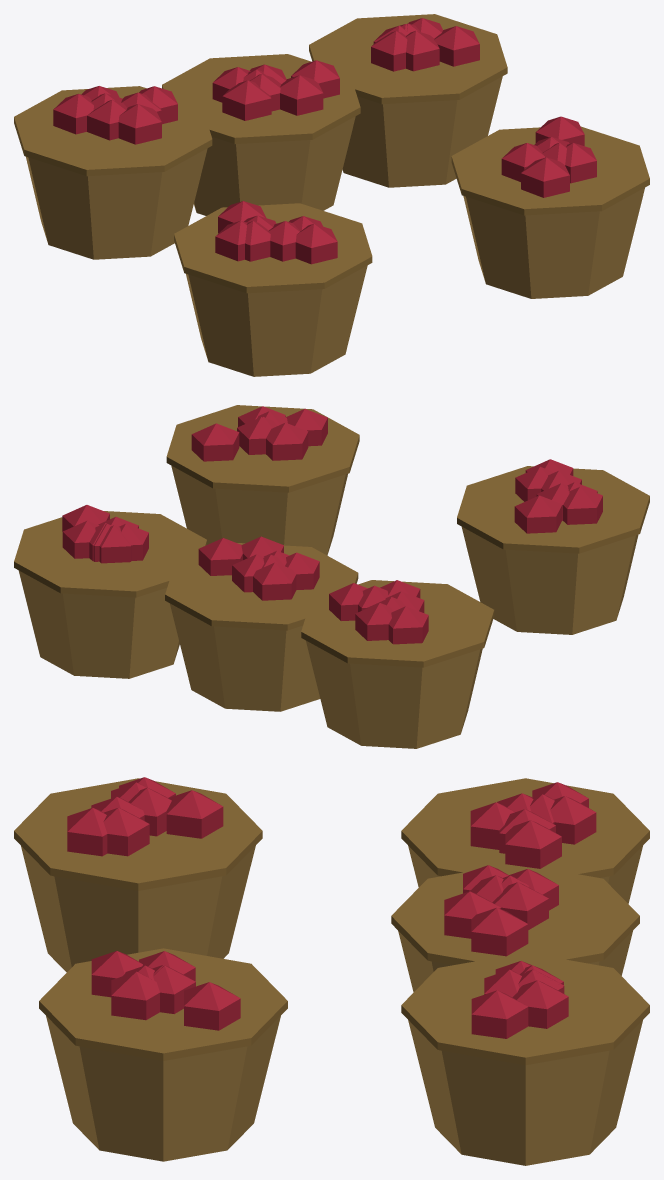
The model's file is pile_berries_2.glb.
3 renders of one model, top to bottom at view 1: azimuth 30°, elevation 25°; view 2: azimuth 150°, elevation 25°; view 3: azimuth 270°, elevation 25°, orthographic. The views are drawn at different scales.
Parts seen in each view (by area): view 1: pile_berries_2; view 2: pile_berries_2; view 3: pile_berries_2.
Part boxes in pixels (left/top/right/bottom): pile_berries_2: left=14, top=14, right=649, bottom=376; pile_berries_2: left=14, top=405, right=649, bottom=748; pile_berries_2: left=14, top=777, right=649, bottom=1165.
Size of the model in its own units: 1.31 by 0.348 by 1.26.
